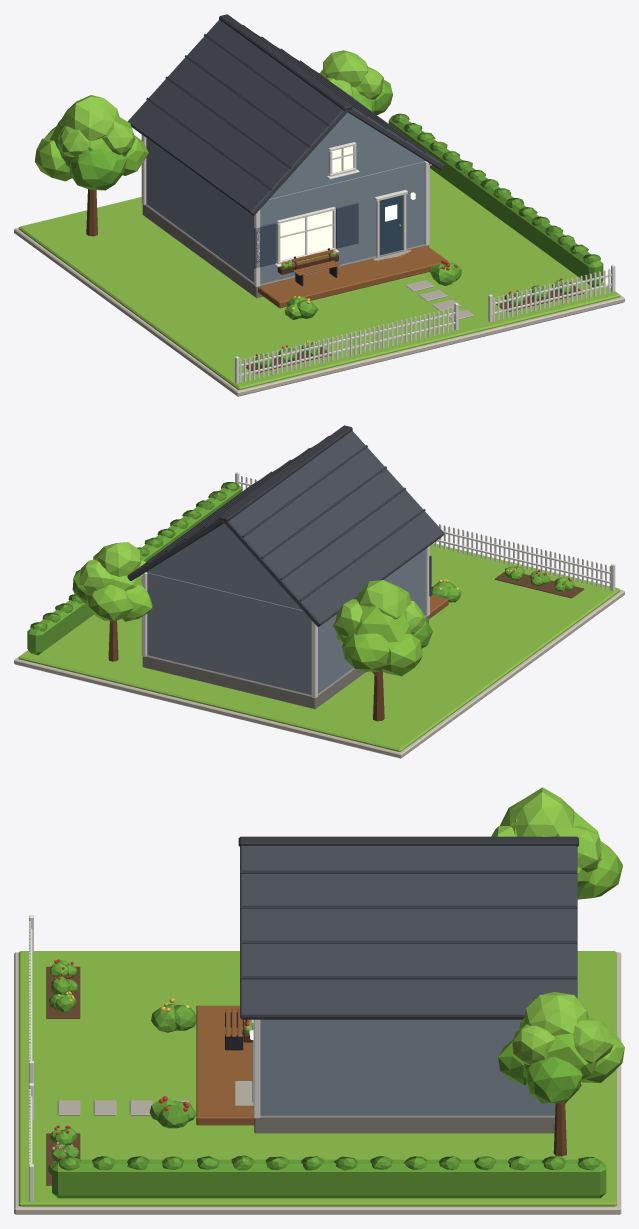
File: lote_casa_frontao_azul.glb
3 views of the same model, one above another, from view 1: azimuth 30°, elevation 25°; view 2: azimuth 150°, elevation 25°; view 3: azimuth 270°, elevation 25° (orthographic). The views are drawn at different scales.
Visible parts, largest first — view 1: lote_casa_frontao_azul_01, lote_casa_frontao_azul_05, lote_casa_frontao_azul_03, lote_casa_frontao_azul_23, lote_casa_frontao_azul_21, lote_casa_frontao_azul_27, lote_casa_frontao_azul_19, lote_casa_frontao_azul_00, lote_casa_frontao_azul_06, lote_casa_frontao_azul_10, lote_casa_frontao_azul_04, lote_casa_frontao_azul_07 (+6 smaller); view 2: lote_casa_frontao_azul_01, lote_casa_frontao_azul_05, lote_casa_frontao_azul_03, lote_casa_frontao_azul_26, lote_casa_frontao_azul_23, lote_casa_frontao_azul_27, lote_casa_frontao_azul_00, lote_casa_frontao_azul_06, lote_casa_frontao_azul_21, lote_casa_frontao_azul_02, lote_casa_frontao_azul_04, lote_casa_frontao_azul_10 (+2 smaller); view 3: lote_casa_frontao_azul_01, lote_casa_frontao_azul_05, lote_casa_frontao_azul_23, lote_casa_frontao_azul_03, lote_casa_frontao_azul_06, lote_casa_frontao_azul_27, lote_casa_frontao_azul_00, lote_casa_frontao_azul_19, lote_casa_frontao_azul_02, lote_casa_frontao_azul_26, lote_casa_frontao_azul_10, lote_casa_frontao_azul_17 (+4 smaller).
Part boxes in pixels (x1,y1,x2,y2): lote_casa_frontao_azul_01: (18,168,620,389); lote_casa_frontao_azul_05: (127,19,444,215); lote_casa_frontao_azul_03: (146,112,425,283); lote_casa_frontao_azul_23: (255,113,603,367); lote_casa_frontao_azul_21: (235,264,615,384); lote_casa_frontao_azul_27: (58,50,383,156); lote_casa_frontao_azul_19: (258,245,448,308); lote_casa_frontao_azul_00: (14,227,624,396); lote_casa_frontao_azul_06: (146,14,425,190); lote_casa_frontao_azul_10: (69,79,569,366); lote_casa_frontao_azul_04: (141,135,431,287); lote_casa_frontao_azul_07: (280,146,353,260); lote_casa_frontao_azul_01: (18,543,620,751); lote_casa_frontao_azul_05: (127,430,444,626); lote_casa_frontao_azul_03: (146,523,425,694); lote_casa_frontao_azul_26: (83,574,422,676); lote_casa_frontao_azul_23: (27,482,574,655); lote_casa_frontao_azul_27: (79,542,426,637); lote_casa_frontao_azul_00: (14,589,624,758); lote_casa_frontao_azul_06: (146,425,425,601); lote_casa_frontao_azul_21: (235,472,615,591); lote_casa_frontao_azul_02: (142,615,428,709); lote_casa_frontao_azul_04: (140,546,429,698); lote_casa_frontao_azul_10: (72,569,568,648); lote_casa_frontao_azul_01: (18,951,616,1206); lote_casa_frontao_azul_05: (240,846,577,1019); lote_casa_frontao_azul_23: (47,960,606,1198); lote_casa_frontao_azul_03: (260,1019,555,1115); lote_casa_frontao_azul_06: (238,836,578,979); lote_casa_frontao_azul_27: (491,787,613,1064); lote_casa_frontao_azul_00: (14,952,621,1214); lote_casa_frontao_azul_19: (196,1005,254,1125); lote_casa_frontao_azul_02: (254,1115,554,1133); lote_casa_frontao_azul_26: (513,810,624,1082); lote_casa_frontao_azul_10: (50,962,582,1151); lote_casa_frontao_azul_17: (57,1081,253,1115).
Size of the model in its own units: 16 by 7.21 by 16.09.
